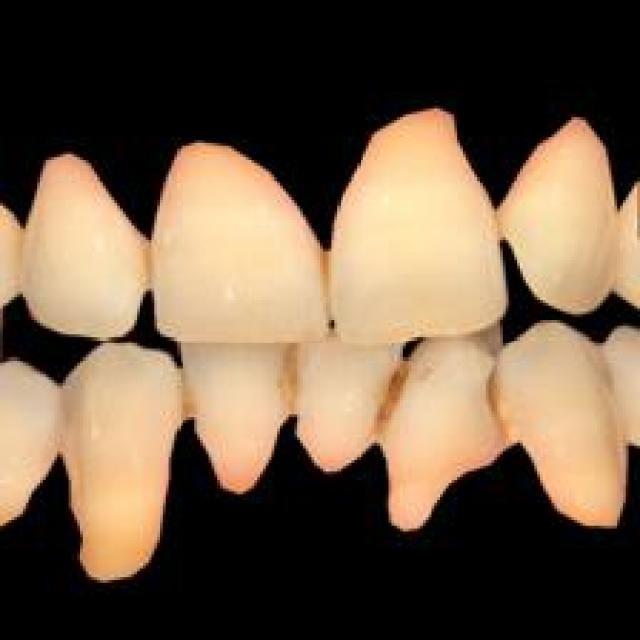1: (332, 97, 497, 337), (151, 140, 320, 340), (60, 343, 177, 574), (503, 326, 623, 528), (509, 114, 614, 314), (23, 149, 134, 334), (389, 334, 480, 520), (180, 343, 294, 491), (291, 340, 406, 466)
karies: (368, 348, 412, 443), (83, 528, 137, 572), (57, 386, 83, 463), (483, 371, 511, 440), (126, 231, 157, 283), (172, 372, 197, 414), (283, 343, 297, 408), (314, 246, 334, 288)
